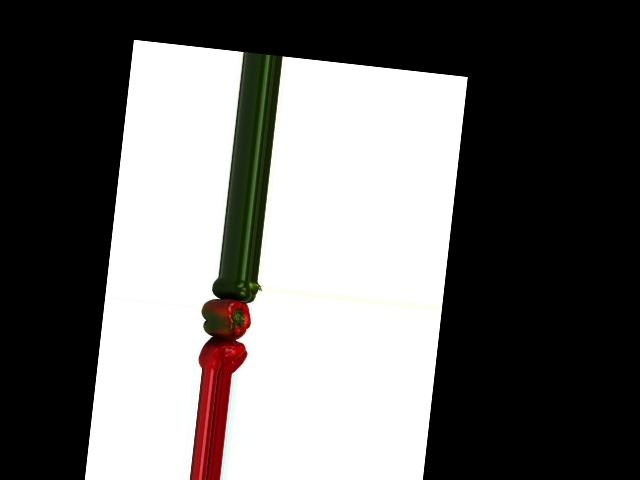bell_pepper: (195, 334, 252, 375)
